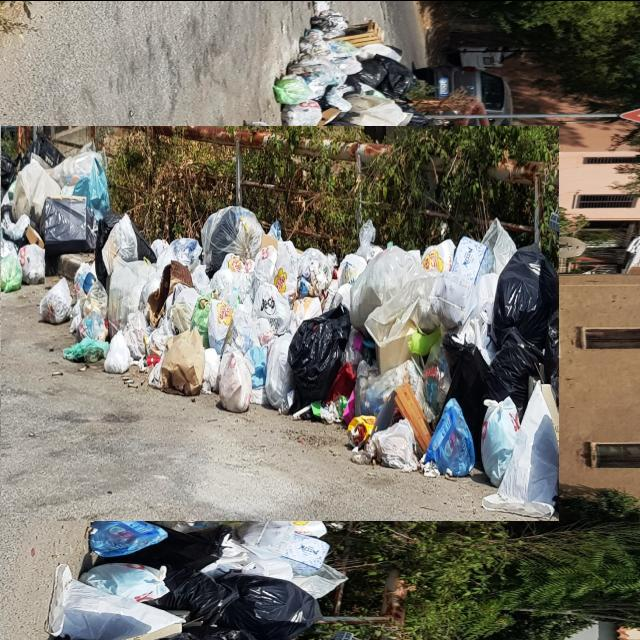garbage: (0, 65, 500, 580)
